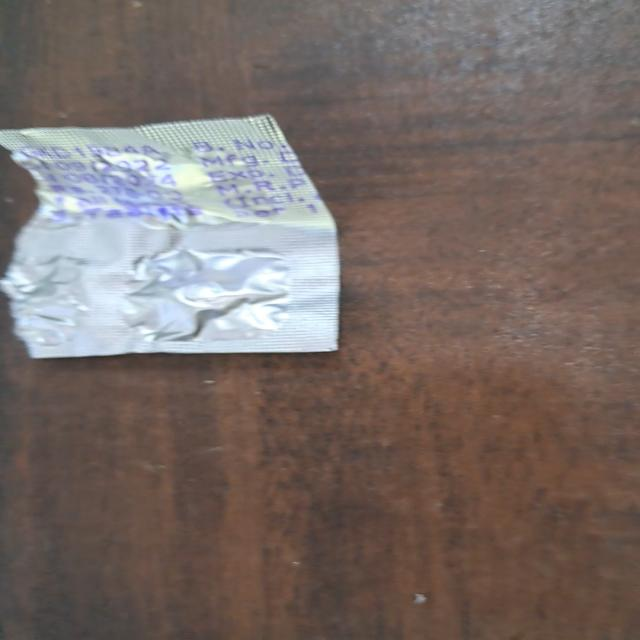Anorganik: (0, 105, 359, 372)
